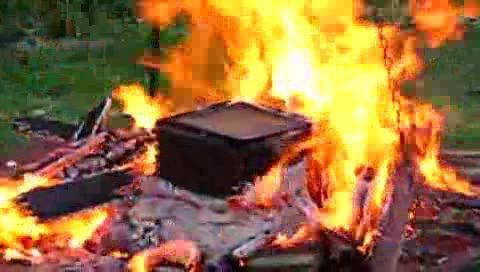fire: (105, 1, 471, 222), (0, 160, 153, 270)
